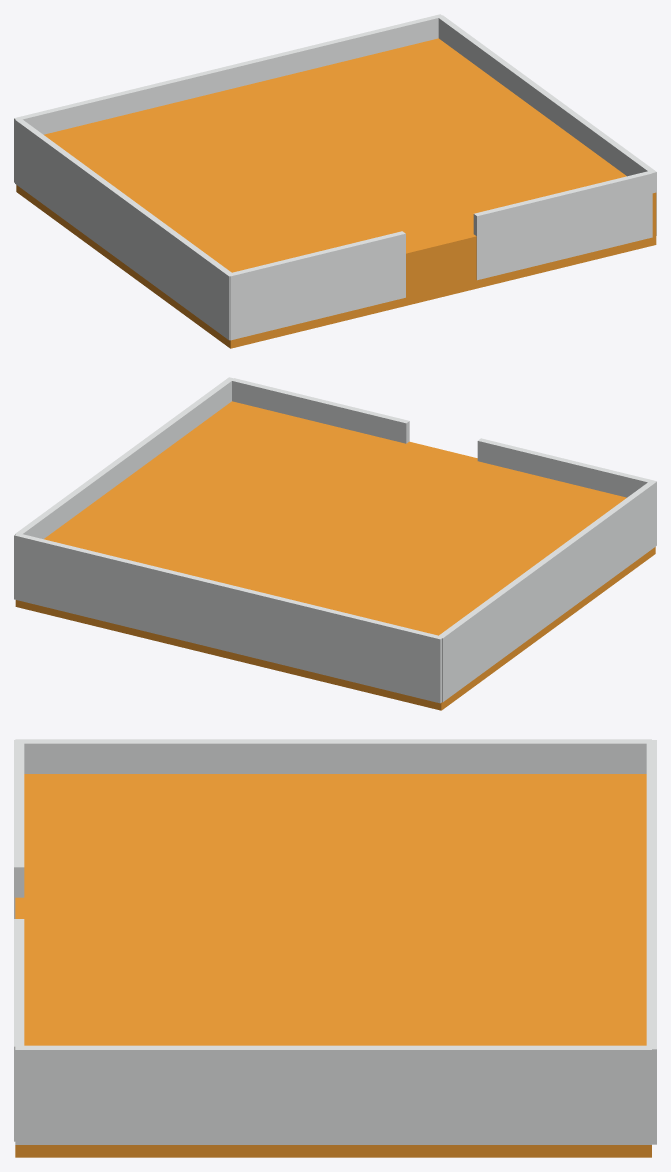
The model's file is level-4.glb.
The picture shows the model from 3 angles, top to bottom: view 1: azimuth 30°, elevation 25°; view 2: azimuth 150°, elevation 25°; view 3: azimuth 270°, elevation 25°; orthographic projection. The views are drawn at different scales.
Parts seen in each view (by area): view 1: Hall | floor, Stage | floor, Hall | wall W, Hall | wall S-left.001, Hall | wall S-left, Hall | wall N, Stage | wall E, Stage | wall N; view 2: Hall | floor, Hall | wall N, Stage | floor, Hall | wall W, Stage | wall N, Stage | wall E, Hall | wall S-left.001, Hall | wall S-left; view 3: Hall | floor, Stage | wall E, Stage | floor, Hall | wall W, Hall | wall N, Hall | wall S-left, Hall | wall S-left.001, Stage | wall N.
Part boxes in pixels (x1,y1,x2,y2): Hall | floor: (16,60,563,348); Stage | floor: (351,38,656,267); Hall | wall W: (15,118,234,340); Hall | wall S-left.001: (473,171,652,280); Hall | wall S-left: (229,231,405,340); Hall | wall N: (14,37,351,182); Stage | wall E: (437,15,656,235); Stage | wall N: (348,14,441,59); Hall | floor: (108,422,655,710); Hall | wall N: (106,555,442,703); Stage | floor: (15,401,318,629); Hall | wall W: (439,480,656,702); Stage | wall N: (14,534,109,621); Stage | wall E: (15,377,234,538); Hall | wall S-left.001: (231,378,409,443); Hall | wall S-left: (477,438,656,497); Hall | floor: (15,774,646,1012); Stage | wall E: (15,1045,651,1144); Stage | floor: (15,1012,651,1157); Hall | wall W: (15,739,651,773); Hall | wall N: (646,740,656,981); Hall | wall S-left: (14,740,24,918); Hall | wall S-left.001: (14,919,24,1141); Stage | wall N: (646,982,656,1144).
Bounding box in the file's own units: 23.08 × 3.75 × 20.2.
